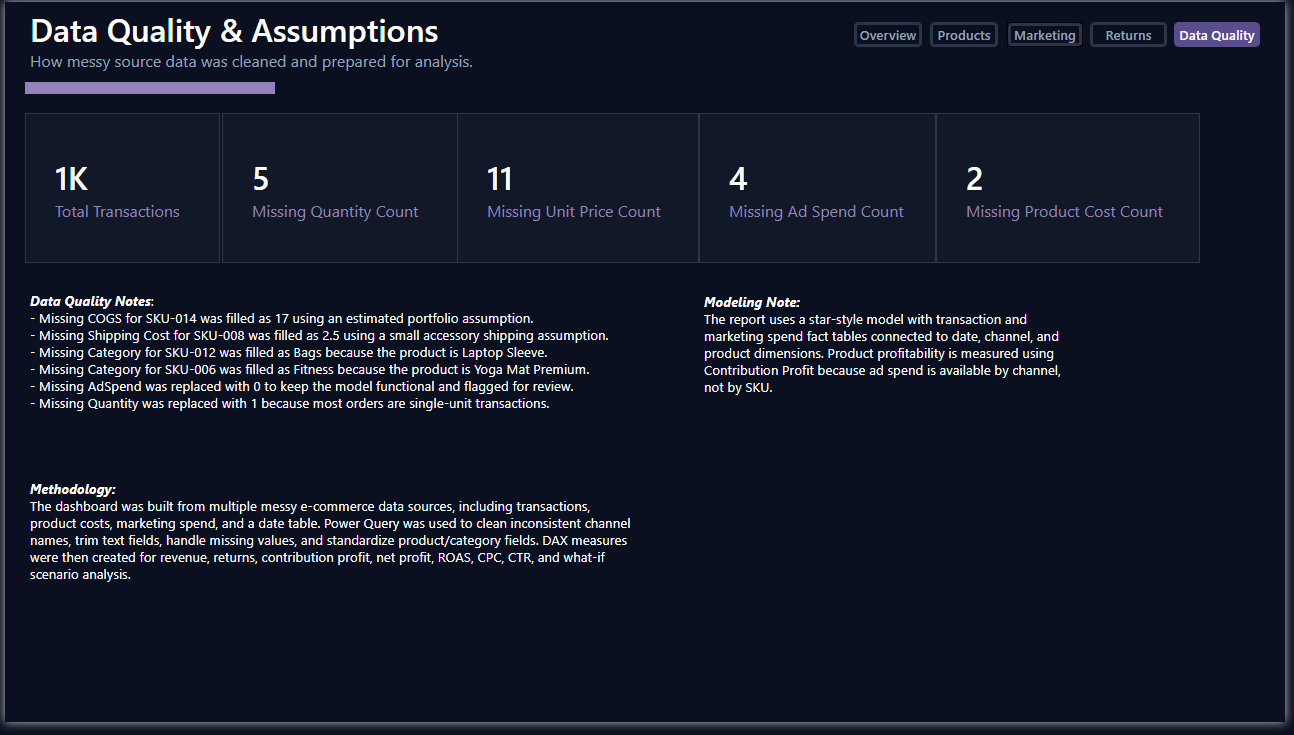

The page's visual inventory and layout, read from the dashboard file:
{"tool":"powerbi","page":{"name":"Data Quality","canvas":[1280,720],"ordinal":4},"visuals":[{"type":"textbox","box":[20,0,485.7,111.4],"z":0},{"type":"cardVisual","fields":{"Data":["Assumption_Log.Total Transactions"]},"box":[20,110.8,195,150],"z":1000},{"type":"cardVisual","fields":{"Data":["Assumption_Log.Missing Quantity Count"]},"box":[216.7,110.8,235.8,150],"z":2000},{"type":"cardVisual","fields":{"Data":["Assumption_Log.Missing Unit Price Count"]},"box":[452.2,111.1,241.7,150],"z":3000},{"type":"cardVisual","fields":{"Data":["Assumption_Log.Missing Ad Spend Count"]},"box":[693.9,111.1,236.7,150],"z":4000},{"type":"cardVisual","fields":{"Data":["Assumption_Log.Missing Product Cost Count"]},"box":[930.8,110.8,264.2,150],"z":5000},{"type":"textbox","box":[20,473,620,172],"z":6000},{"type":"textbox","box":[694.3,285.7,375.7,171.4],"z":7000},{"type":"shape","box":[20,80,250,11.7],"z":8000},{"type":"actionButton","box":[849.2,20,67.7,25.4],"z":9000},{"type":"actionButton","box":[924.6,20,68.5,25.4],"z":10000},{"type":"actionButton","box":[1001.5,20,76.9,25.4],"z":11000},{"type":"actionButton","box":[1085,20,77.1,25],"z":12000},{"type":"actionButton","box":[1168.6,20,86.4,25],"z":13000},{"type":"textbox","box":[20,285,625,150],"z":14000}]}

Visuals, with their boxes in screenshot pixels (x1, y1, x2, y2), scaled from the page's 1280x720 canvas onto the 1294x735 screenshot:
textbox: 20:0:511:114
cardVisual - Assumption_Log.Total Transactions: 20:113:217:266
cardVisual - Assumption_Log.Missing Quantity Count: 219:113:457:266
cardVisual - Assumption_Log.Missing Unit Price Count: 457:113:701:267
cardVisual - Assumption_Log.Missing Ad Spend Count: 701:113:941:267
cardVisual - Assumption_Log.Missing Product Cost Count: 941:113:1208:266
textbox: 20:483:647:658
textbox: 702:292:1082:467
shape: 20:82:273:94
actionButton: 858:20:927:46
actionButton: 935:20:1004:46
actionButton: 1012:20:1090:46
actionButton: 1097:20:1175:46
actionButton: 1181:20:1269:46
textbox: 20:291:652:444
